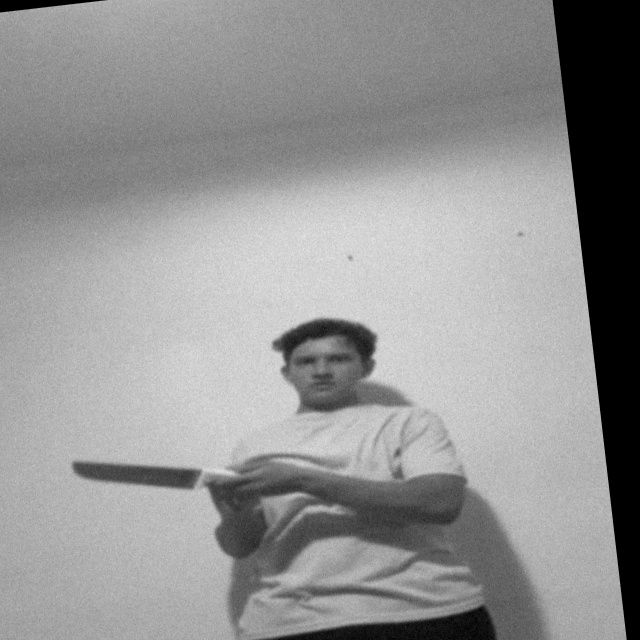Sharp-Object: (73, 445, 196, 502)
